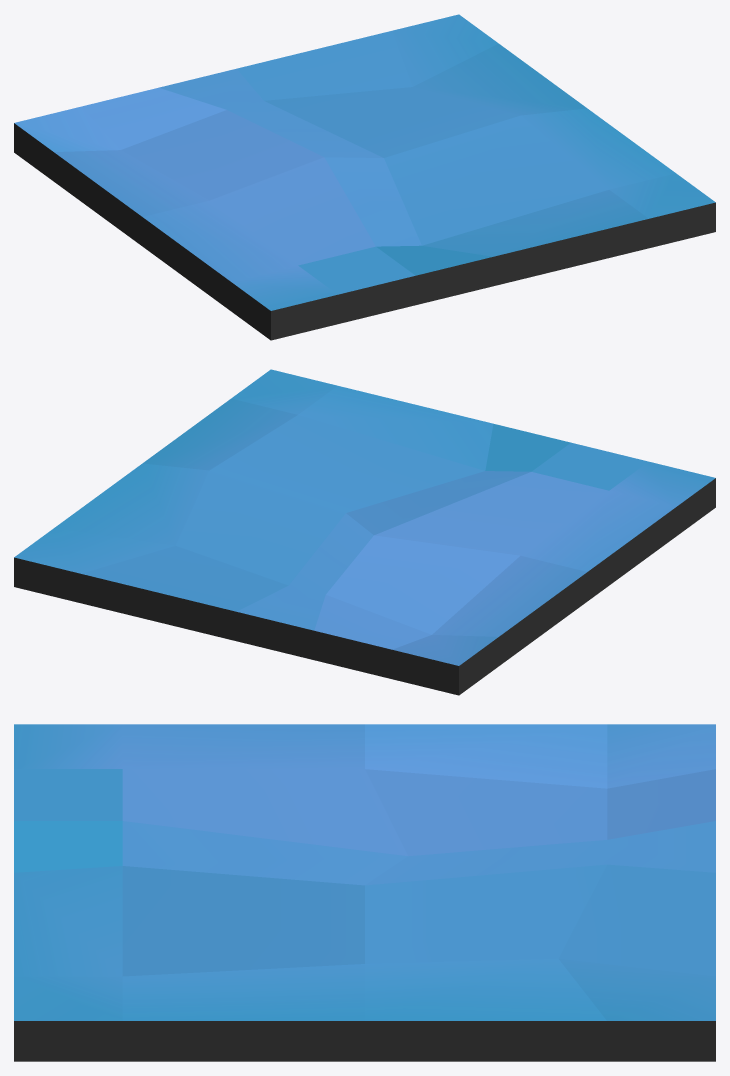
File: sea_full.fbx
The picture shows the model from 3 angles, top to bottom: view 1: azimuth 30°, elevation 25°; view 2: azimuth 150°, elevation 25°; view 3: azimuth 270°, elevation 25°; orthographic projection. The views are drawn at different scales.
Visible parts, largest first — view 1: block.002; view 2: block.002; view 3: block.002.
Part boxes in pixels (<box>): block.002: <box>14,14,715,340</box>; block.002: <box>14,369,715,695</box>; block.002: <box>14,724,715,1061</box>.
Bounding box in the file's own units: 200 × 200 × 16.63.
Materials: 1 (1 with a texture image).
